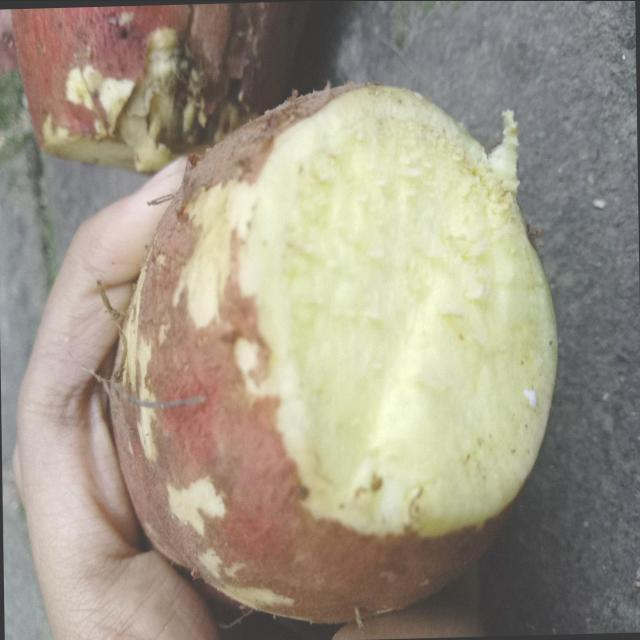Healthy Sweet Potato: (240, 85, 556, 535)
